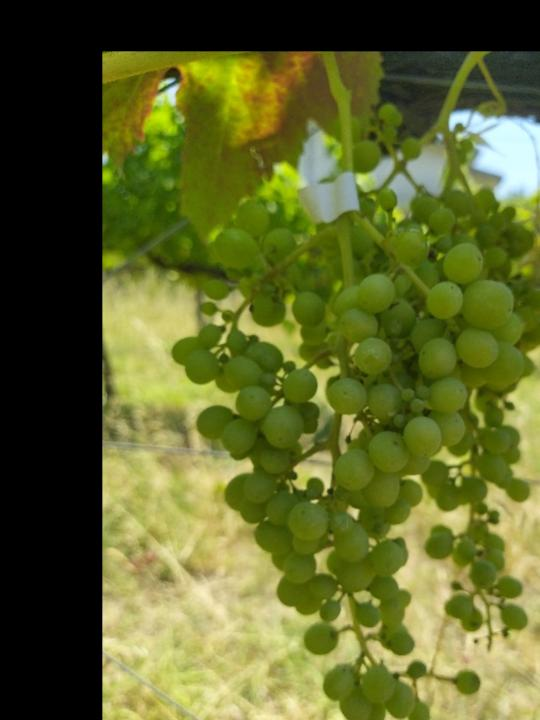grape: (165, 188, 524, 720)
